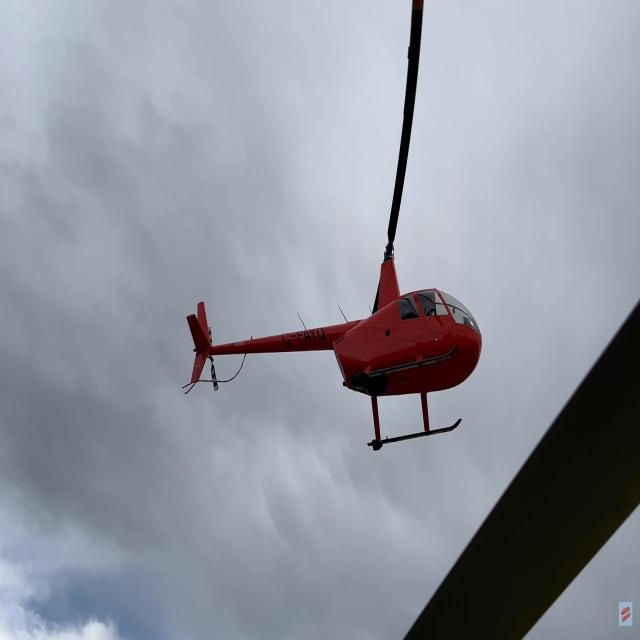CIV_HELO: (187, 241, 484, 453)
